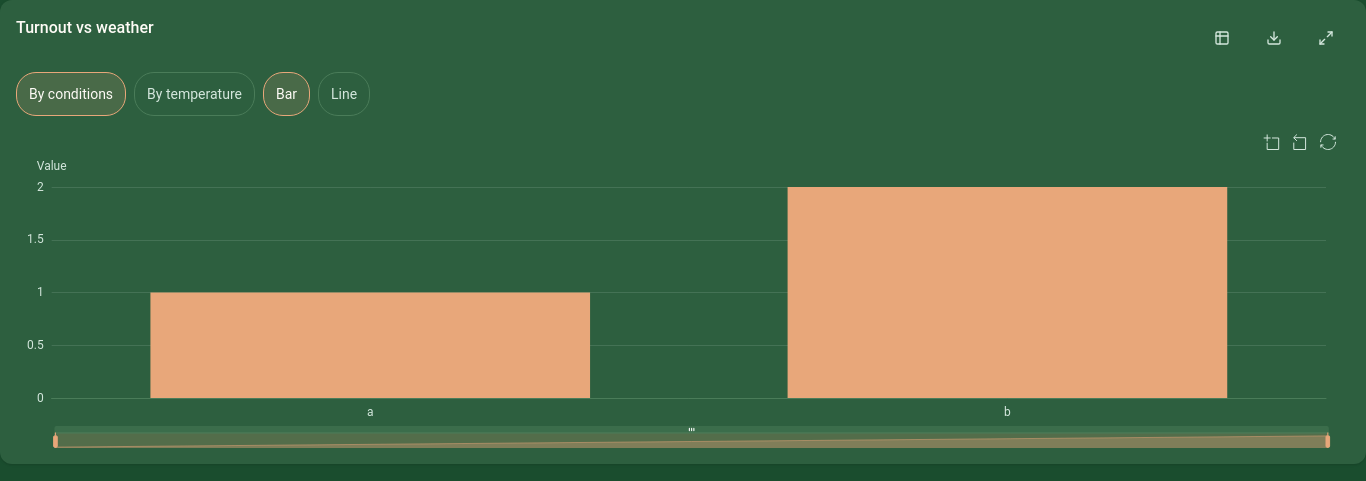
Scenario: ChartCard › keeps its chips on an error so a bad choice can be undone
Click the button "By temperature".
click(194, 94)  # box [134,72,255,116]
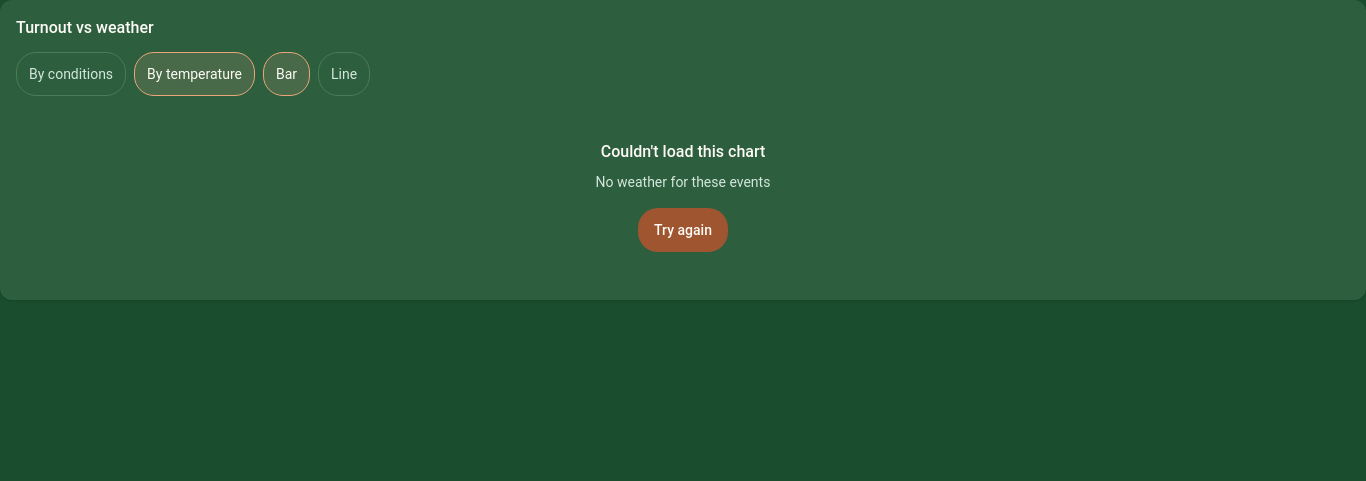
expect the text "No weather for these events" is shown: met, box [596,172,770,192]
Click the button "By conditions".
click(71, 74)  # box [16,52,126,96]
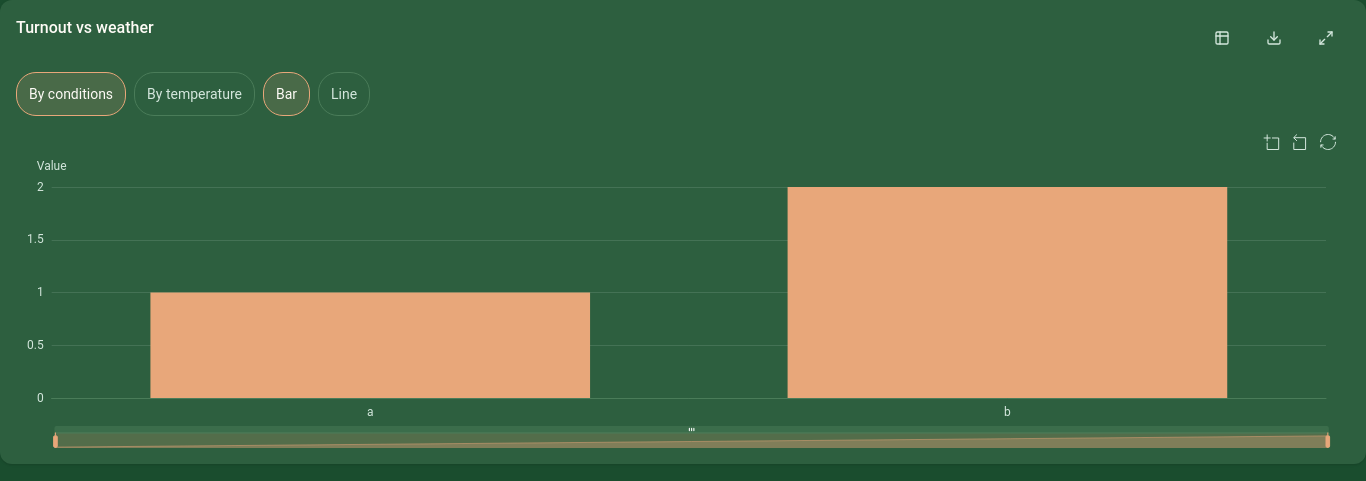
expect the picture named "Turnout vs weather" is shown: met
